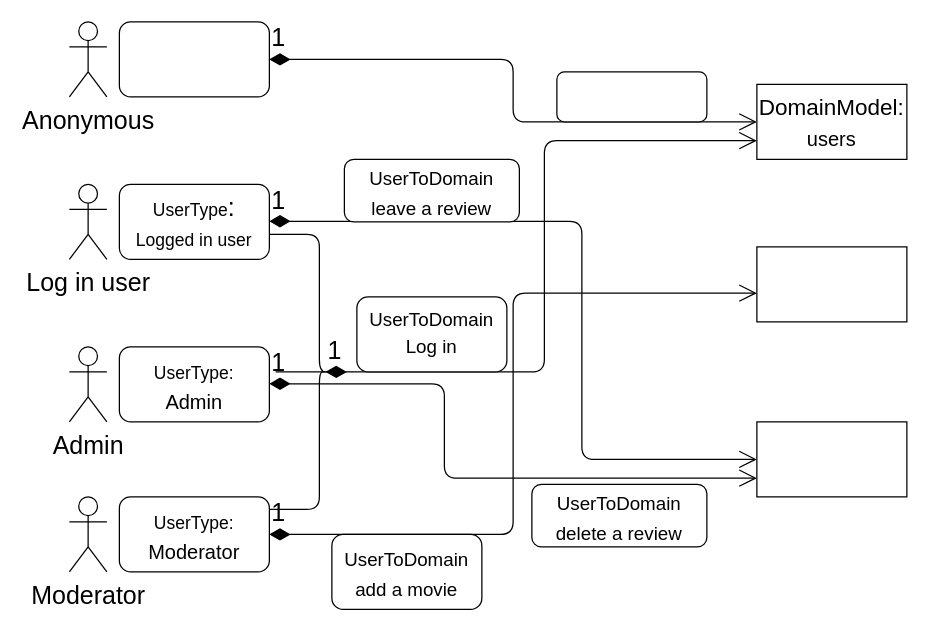
This 929x633 diagram has some shape labels left out. Here are the shapes that lost their labels. From the top down, the centre of each, then its label:
At point 193,59: "UserType: Anonymous".
At point 631,96: "UserToDomain register".
At point 831,284: "DomainModel: movies".
At point 831,459: "DomainModel: reviews".
